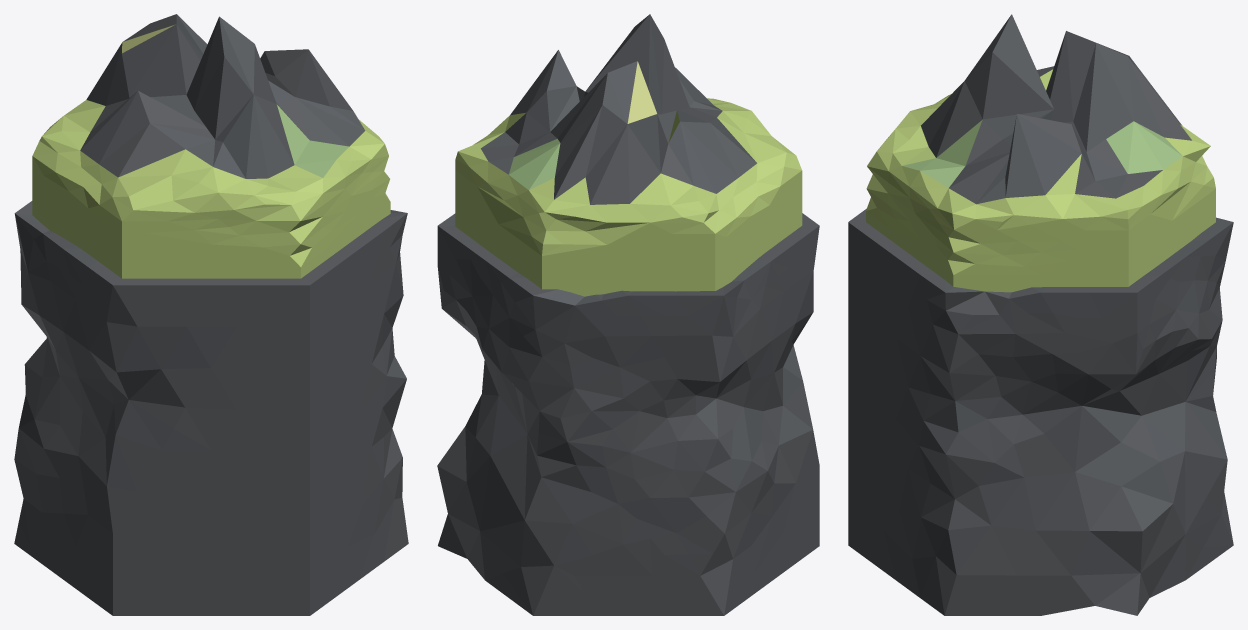
The model's file is hills.fbx.
3 renders of one model, left to right at view 1: azimuth 30°, elevation 25°; view 2: azimuth 150°, elevation 25°; view 3: azimuth 270°, elevation 25°, orthographic. The views are drawn at different scales.
Parts seen in each view (by area): view 1: plain_base.003, top.001; view 2: plain_base.003, top.001; view 3: plain_base.003, top.001.
Boxes of the visible parts, bbox=[...] form: plain_base.003: bbox=[14, 201, 408, 615]; top.001: bbox=[32, 14, 390, 278]; plain_base.003: bbox=[437, 213, 819, 615]; top.001: bbox=[455, 14, 802, 296]; plain_base.003: bbox=[848, 208, 1233, 615]; top.001: bbox=[866, 14, 1215, 292].
Size of the model in its own units: 234 by 398 by 263.
